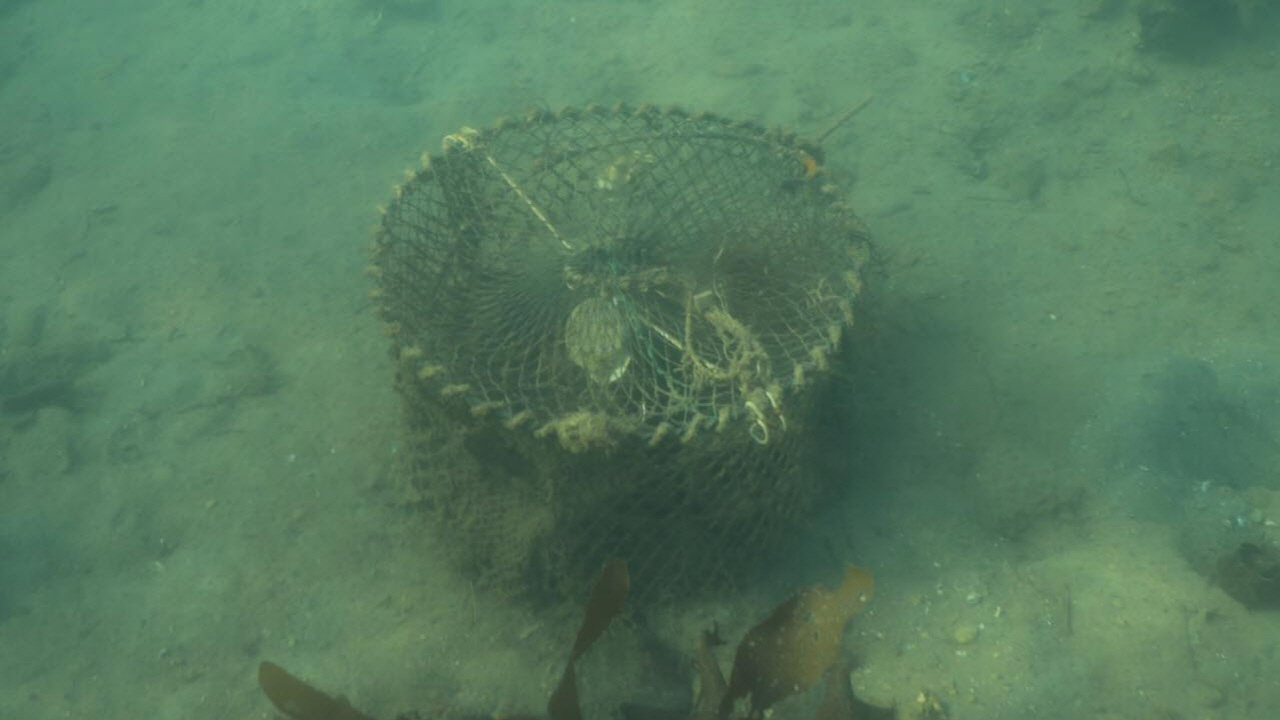circular fish trap: (362, 98, 872, 617)
